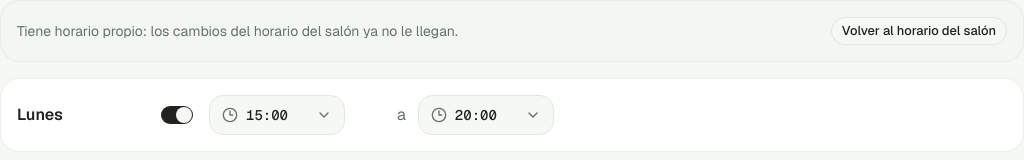
it: AvailabilityEditor › la herencia del horario del salón › al soltar el horario propio pinta el del salón que vuelve a regir
Click the button "Volver al horario del salón": (919, 31) [831, 17, 1007, 45]
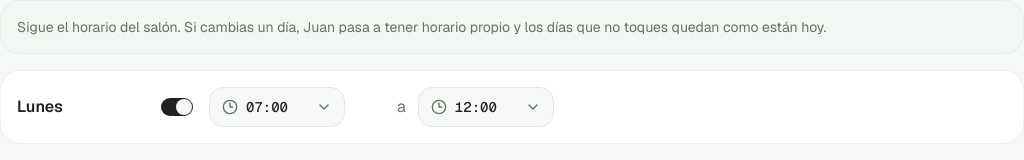
Now the button "07:00" is shown, box [209, 87, 345, 127]
Now the text "Sigue el horario del salón" is shown, box [17, 18, 299, 36]
